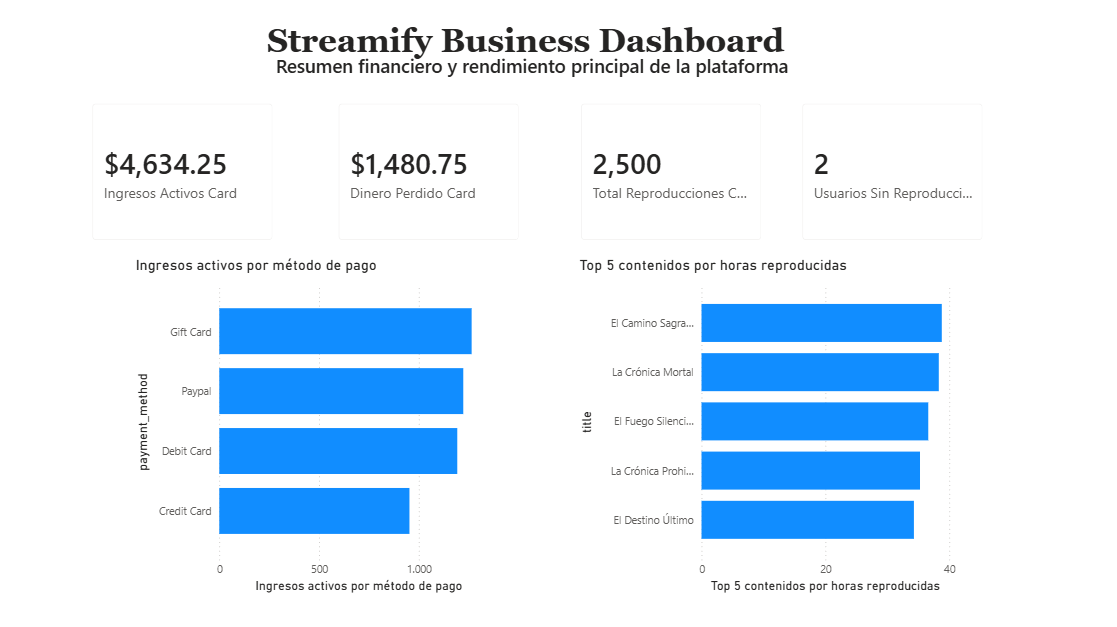

The page's visual inventory and layout, read from the dashboard file:
{"tool":"powerbi","page":{"name":"Resumen Ejecutivo","canvas":[1280,720],"ordinal":0},"visuals":[{"type":"cardVisual","fields":{"Data":["public subscriptions.Ingresos Activos Card"]},"box":[89,101.5,240,190],"z":0},{"type":"cardVisual","fields":{"Data":["public watch_history.Total Reproducciones Card"]},"box":[646.6,101.4,240,190],"z":1000},{"type":"cardVisual","fields":{"Data":["public users.Usuarios Sin Reproducciones Card"]},"box":[899.4,101.4,240,190],"z":2000},{"type":"cardVisual","fields":{"Data":["public subscriptions.Dinero Perdido Card"]},"box":[369.4,101.4,240,190],"z":3000},{"type":"clusteredBarChart","title":"Ingresos activos por método de pago","fields":{"Category":["public subscriptions.payment_method"],"Y":["public subscriptions.Ingresos Activos"]},"box":[150,292.6,440,390],"z":4000},{"type":"clusteredBarChart","title":"Top 5 contenidos por horas reproducidas","fields":{"Category":["public media.title"],"Y":["public watch_history.Horas Reproducidas"]},"box":[657.1,292.6,440,390],"z":5000},{"type":"textbox","box":[300,20,678.3,55],"z":5001},{"type":"textbox","box":[310,55,598.3,61.7],"z":5002}]}

Visuals, with their boxes in screenshot pixels (x1, y1, x2, y2), scaled from the page's 1280x720 canvas onto the 1117x627 screenshot:
cardVisual - public subscriptions.Ingresos Activos Card: box=[78, 88, 287, 254]
cardVisual - public watch_history.Total Reproducciones Card: box=[564, 88, 774, 254]
cardVisual - public users.Usuarios Sin Reproducciones Card: box=[785, 88, 994, 254]
cardVisual - public subscriptions.Dinero Perdido Card: box=[322, 88, 532, 254]
"Ingresos activos por método de pago" clusteredBarChart: box=[131, 255, 515, 594]
"Top 5 contenidos por horas reproducidas" clusteredBarChart: box=[573, 255, 957, 594]
textbox: box=[262, 17, 854, 65]
textbox: box=[271, 48, 793, 102]
